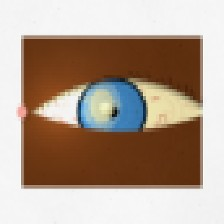corneal_ulcer: (75, 84, 129, 128)
